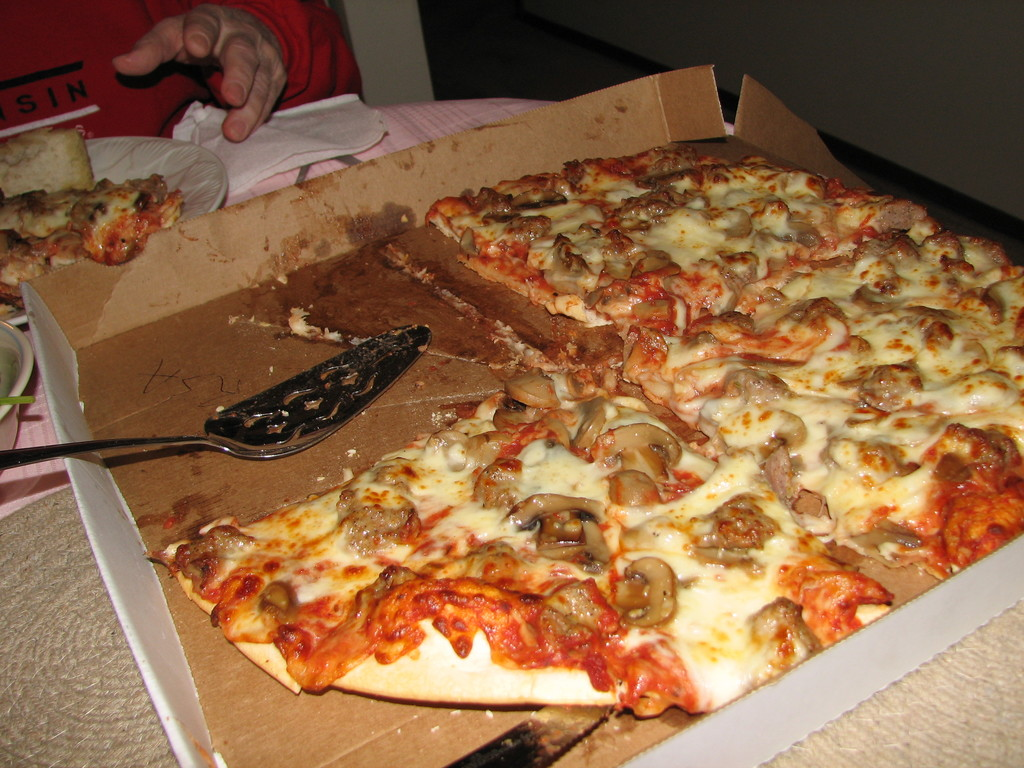Pizza: (160, 145, 1023, 707), (0, 145, 190, 311)
